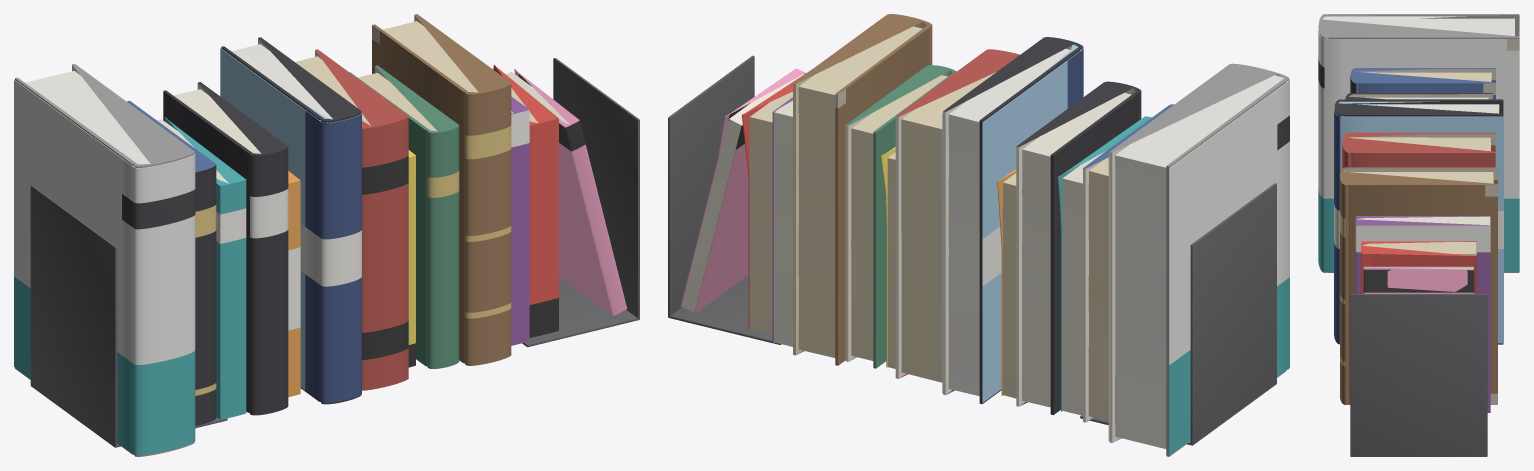
The model's file is paper_books_row.fbx.
3 renders of one model, left to right at view 1: azimuth 30°, elevation 25°; view 2: azimuth 150°, elevation 25°; view 3: azimuth 270°, elevation 25°, orthographic. The views are drawn at different scales.
Parts seen in each view (by area): view 1: paper_books_row; view 2: paper_books_row; view 3: paper_books_row.
Part boxes in pixels (x1,y1,x2,y2): paper_books_row: (14, 14, 639, 456); paper_books_row: (668, 14, 1289, 456); paper_books_row: (1318, 14, 1519, 456).
Bounding box in the file's own units: 0.4653 × 0.248 × 0.1909.
